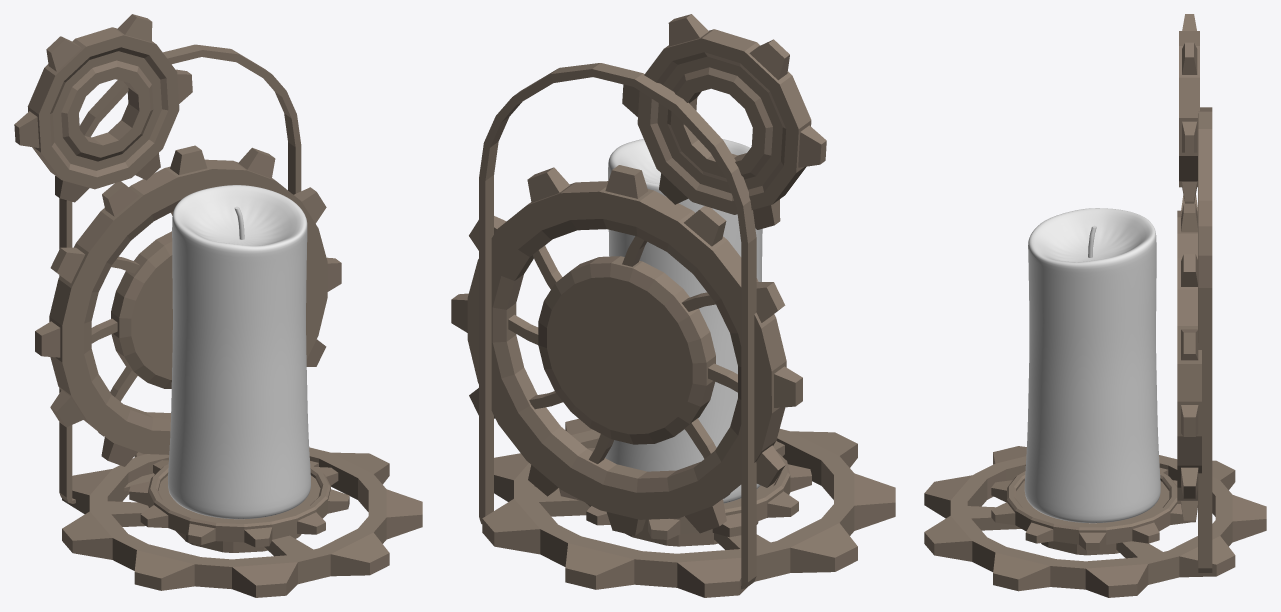
Rendered from candle_wall.fbx.
3 renders of one model, left to right at view 1: azimuth 30°, elevation 25°; view 2: azimuth 150°, elevation 25°; view 3: azimuth 270°, elevation 25°, orthographic. The views are drawn at different scales.
Parts seen in each view (by area): view 1: Cylinder.022, Cylinder.019; view 2: Cylinder.022, Cylinder.019; view 3: Cylinder.022, Cylinder.019.
Boxes of the visible parts, x1,y1,x2,y2 form: Cylinder.022: (14,14,422,597); Cylinder.019: (168,185,310,519); Cylinder.022: (451,14,895,597); Cylinder.019: (605,139,762,503); Cylinder.022: (924,14,1266,597); Cylinder.019: (1024,208,1160,523).
Size of the model in its own units: 557 by 783 by 527.
